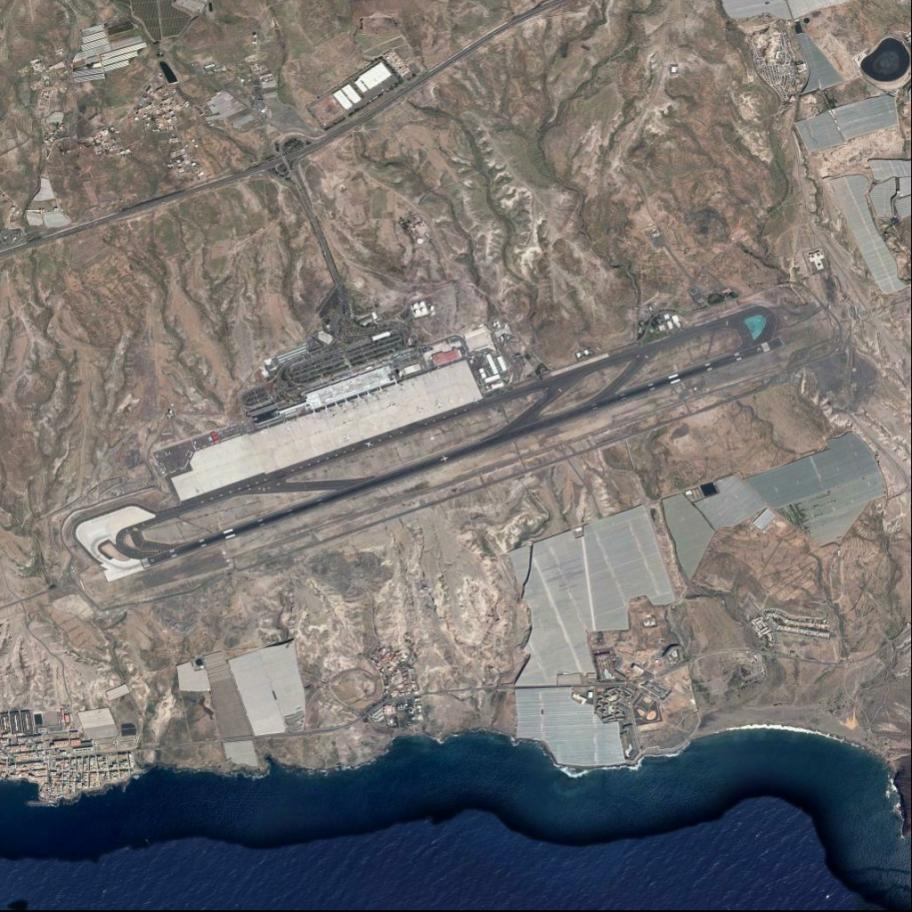plane: (437, 452, 451, 465), (362, 438, 376, 448)
